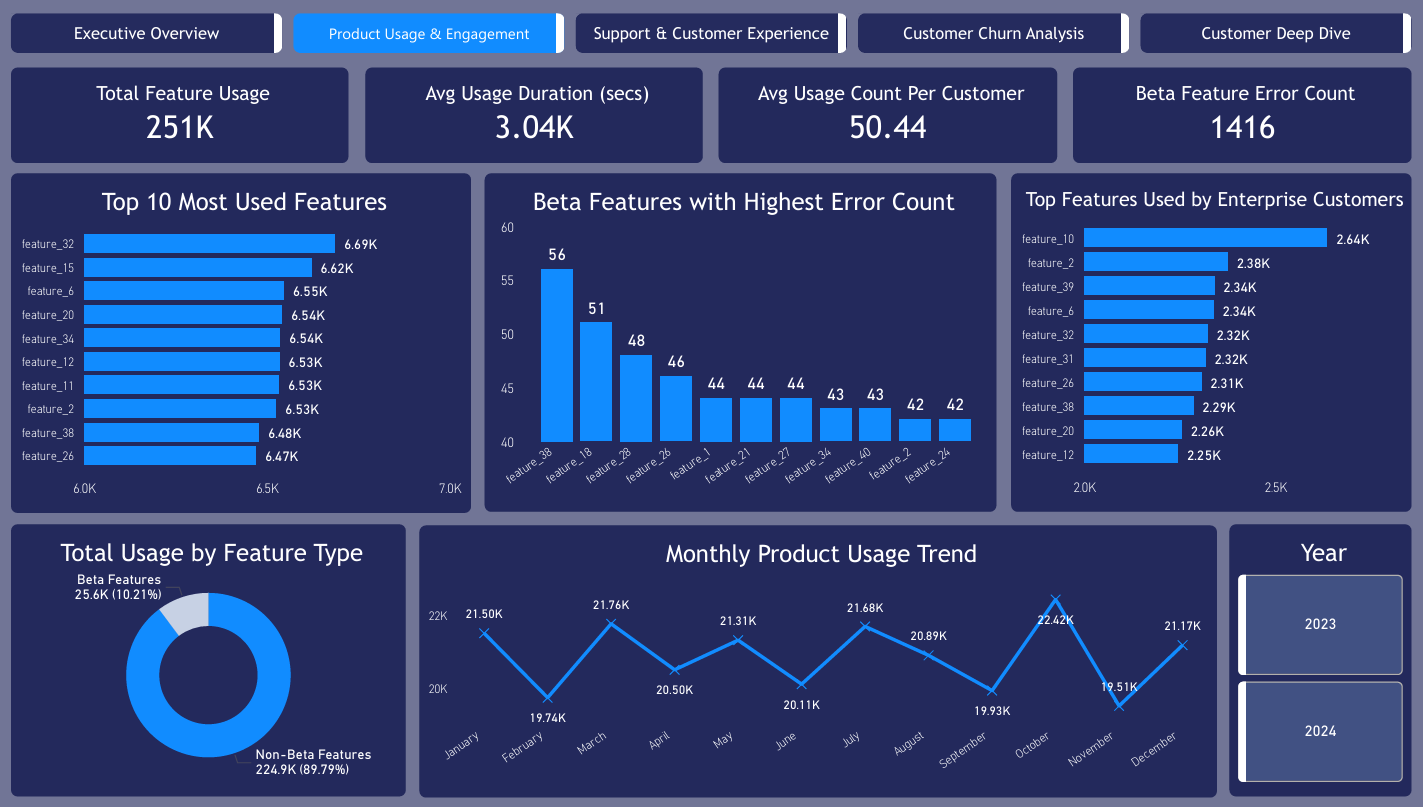

The dashboard page shown, as its layout file describes it:
{"tool":"powerbi","page":{"name":"Product Usage & Engagement","canvas":[1280,720],"ordinal":1},"visuals":[{"type":"card","title":"Total Feature Usage","fields":{"Values":["DAX Measures.Total Feature Usage"]},"box":[15.7,60.3,300.4,84.5],"z":0},{"type":"card","title":"Avg Usage Duration (secs)","fields":{"Values":["DAX Measures.Average Usage Duration"]},"box":[330.6,60.3,300.4,84.5],"z":1000},{"type":"card","title":"Avg Usage Count Per Customer","fields":{"Values":["DAX Measures.Avg Usage Count per Customer"]},"box":[645.4,60.3,300.4,84.5],"z":2000},{"type":"card","title":"Beta Feature Error Count","fields":{"Values":["DAX Measures.Beta Feature Error Count"]},"box":[960.3,60.3,300.4,84.5],"z":3000},{"type":"clusteredBarChart","title":"Top 10 Most Used Features","fields":{"Category":["product_usage_metrics.feature_name"],"Y":["Sum(product_usage_metrics.usage_count)"]},"box":[15.7,154.4,409,301.6],"z":4000},{"type":"clusteredBarChart","title":"Top Features Used by Enterprise Customers","fields":{"Category":["product_usage_metrics.feature_name"],"Y":["Sum(product_usage_metrics.usage_count)"]},"box":[904.9,154.3,355.9,301.2],"z":5000},{"type":"donutChart","title":"Total Usage by Feature Type","fields":{"Y":["Sum(product_usage_metrics.usage_count)"],"Category":["product_usage_metrics.is_beta_feature"],"Series":["product_usage_metrics.Feature Type"]},"box":[15.7,465.7,351.1,242.5],"z":6000},{"type":"lineChart","title":"Monthly Product Usage Trend","fields":{"Category":["product_usage_metrics.usage_date.Variation.Date Hierarchy.Month"],"Y":["Sum(product_usage_metrics.usage_count)"]},"box":[378.8,466.9,709.4,242.5],"z":7000},{"type":"clusteredColumnChart","title":"Beta Features with Highest Error Count","fields":{"Category":["product_usage_metrics.feature_name"],"Y":["Sum(product_usage_metrics.error_count)"]},"box":[437.3,154.3,454.3,301.2],"z":8000},{"type":"advancedSlicerVisual","fields":{"Values":["product_usage_metrics.usage_date.Variation.Date Hierarchy.Year"]},"box":[1099.1,465.7,161.7,242.5],"z":9000},{"type":"pageNavigator","box":[15.7,12.1,1245,35],"z":10000}]}

Visuals, with their boxes in screenshot pixels (x1, y1, x2, y2), scaled from the page's 1280x720 canvas onto the 1423x807 screenshot:
"Total Feature Usage" card: 17, 68, 351, 162
"Avg Usage Duration (secs)" card: 368, 68, 701, 162
"Avg Usage Count Per Customer" card: 718, 68, 1051, 162
"Beta Feature Error Count" card: 1068, 68, 1402, 162
"Top 10 Most Used Features" clusteredBarChart: 17, 173, 472, 511
"Top Features Used by Enterprise Customers" clusteredBarChart: 1006, 173, 1402, 511
"Total Usage by Feature Type" donutChart: 17, 522, 408, 794
"Monthly Product Usage Trend" lineChart: 421, 523, 1210, 795
"Beta Features with Highest Error Count" clusteredColumnChart: 486, 173, 991, 511
advancedSlicerVisual - product_usage_metrics.usage_date.Variation.Date Hierarchy.Year: 1222, 522, 1402, 794
pageNavigator: 17, 14, 1402, 53
